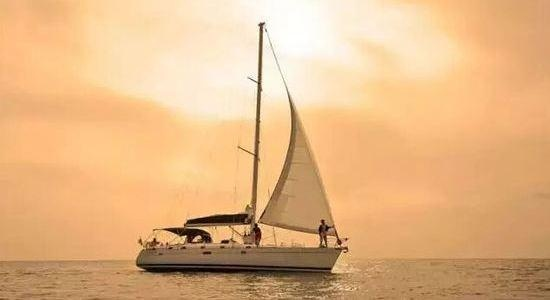fanchuan: (137, 26, 355, 270)
